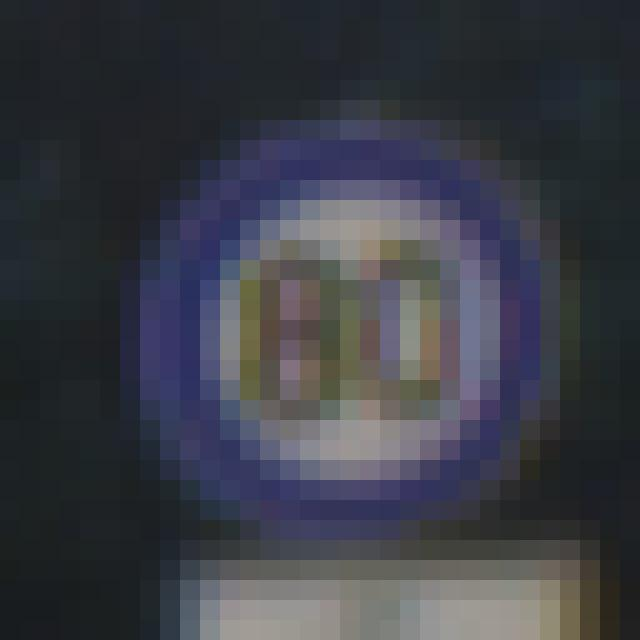SPEED-LIMIT-80: (125, 117, 585, 556)
